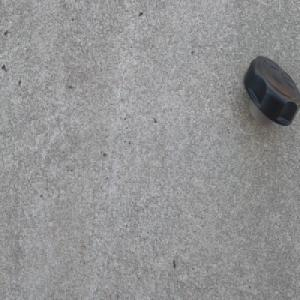FuelCap: (243, 54, 300, 130)
